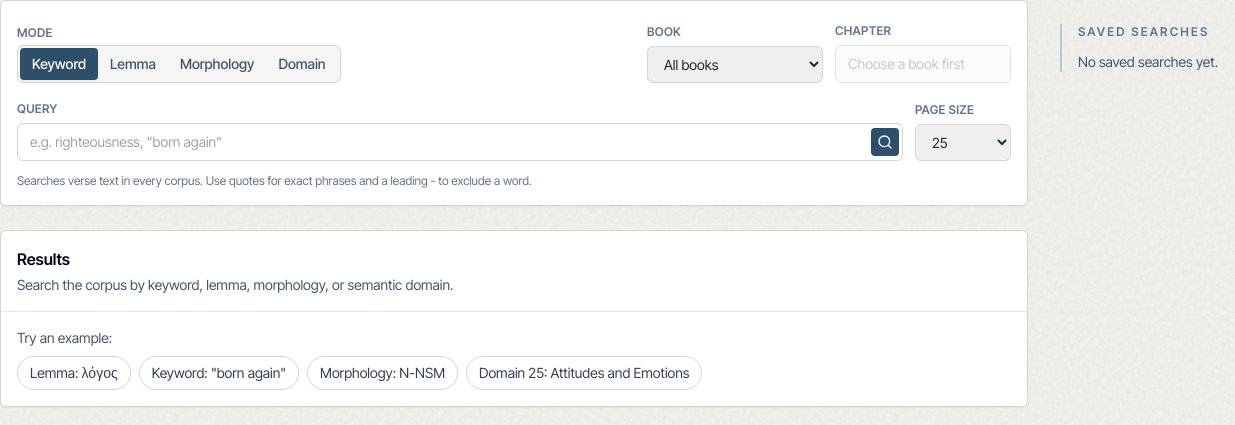
SearchPanel mode control › switches placeholder and hint with the selected mode
Click the radio button labelled "Lemma".
click(133, 64)  # box top-left (110, 55), bottom-right (156, 72)
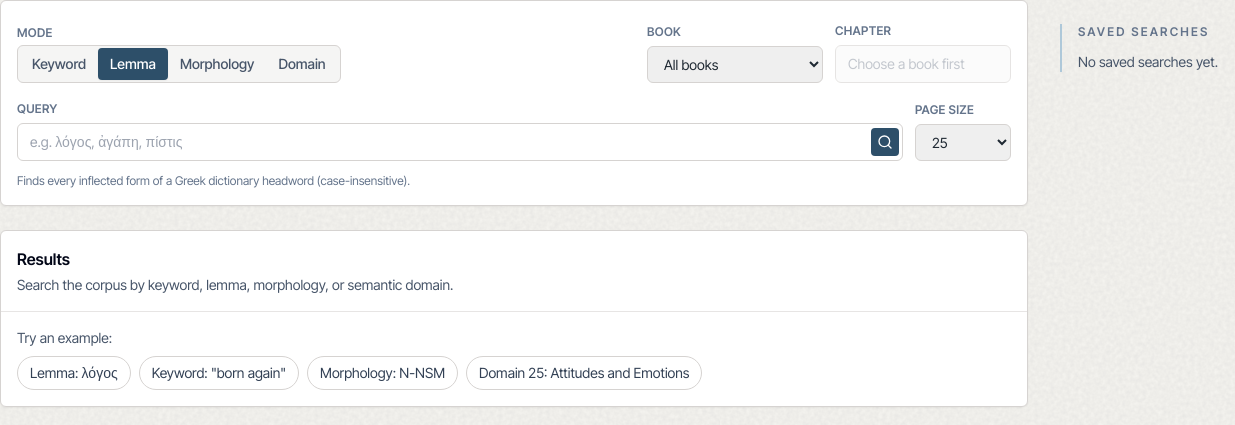
Expected: the field with placeholder "e.g. λόγος, ἀγάπη, πίστις" is shown, top-left (17, 123), bottom-right (903, 161)
Expected: the text "inflected form" is shown, top-left (17, 173), bottom-right (410, 188)
